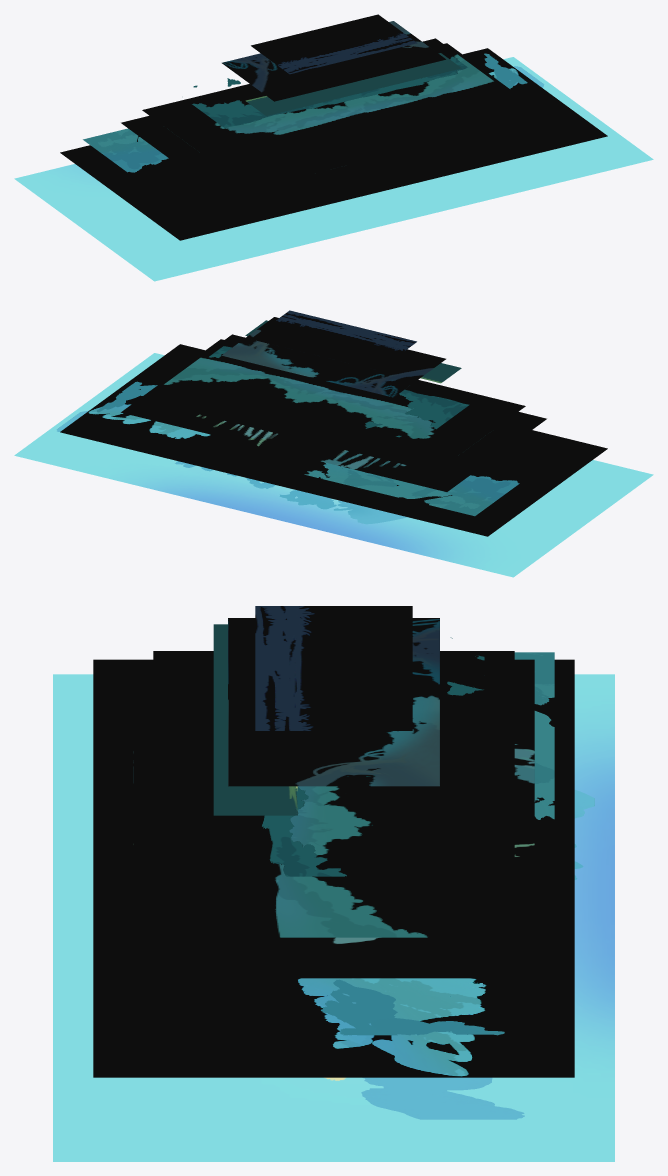
3 renders of one model, top to bottom at view 1: azimuth 30°, elevation 25°; view 2: azimuth 150°, elevation 25°; view 3: azimuth 270°, elevation 25°, orthographic. The views are drawn at different scales.
Visible parts, largest first — view 1: 背景, 后灌木丛, 中灌木丛, 中树干, 前树, 前草, 草底, 中树叶, 前灌木丛; view 2: 背景, 中灌木丛, 后灌木丛, 中树干, 前树, 前草, 中树叶, 后树, 前灌木丛, 草底; view 3: 背景, 中灌木丛, 后灌木丛, 中树干, 前草, 前树, 中树叶, 后树, 草底, 前灌木丛.
Part boxes in pixels (x1,y1,x2,y2): 背景: (14,57,653,281); 后灌木丛: (60,48,607,240); 中灌木丛: (142,38,525,175); 中树干: (121,43,546,195); 前树: (222,21,445,101); 前草: (251,14,417,74); 草底: (245,53,461,115); 中树叶: (83,53,527,172); 前灌木丛: (192,56,467,128); 背景: (14,353,653,577); 中灌木丛: (142,334,525,471); 后灌木丛: (60,344,607,536); 中树干: (121,339,546,491); 前树: (222,317,445,397); 前草: (250,310,416,370); 中树叶: (97,381,519,516); 后树: (56,410,407,524); 前灌木丛: (209,346,469,437); 草底: (245,320,461,383); 背景: (53,674,614,1161); 中灌木丛: (153,651,514,937); 后灌木丛: (93,659,574,1077); 中树干: (133,659,534,978); 前草: (255,606,412,730); 前树: (228,618,439,786); 中树叶: (321,652,554,1035); 后树: (361,790,594,1119); 草底: (213,624,298,815); 前灌木丛: (262,637,484,876).
Bounding box in the file's own units: 6759 × 1613 × 3292.
11 materials, 11 textured.
